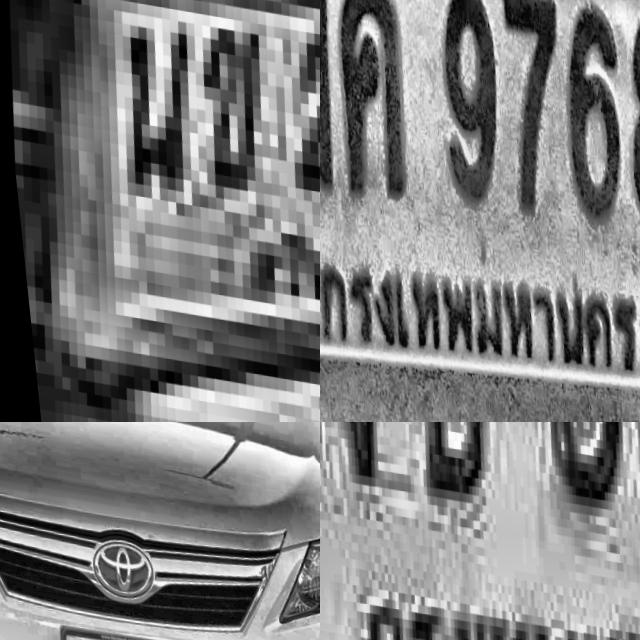license-plate: (0, 0, 320, 422), (320, 0, 640, 422), (320, 422, 640, 640), (45, 618, 188, 640)
